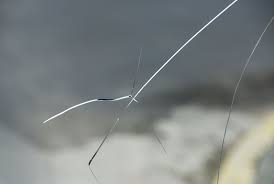scratch: (215, 80, 237, 184), (39, 101, 121, 127)
